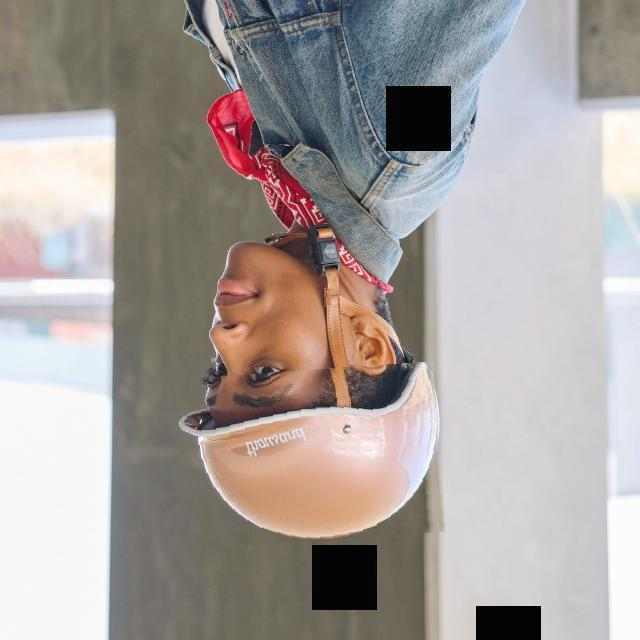helmet: (177, 366, 443, 545)
